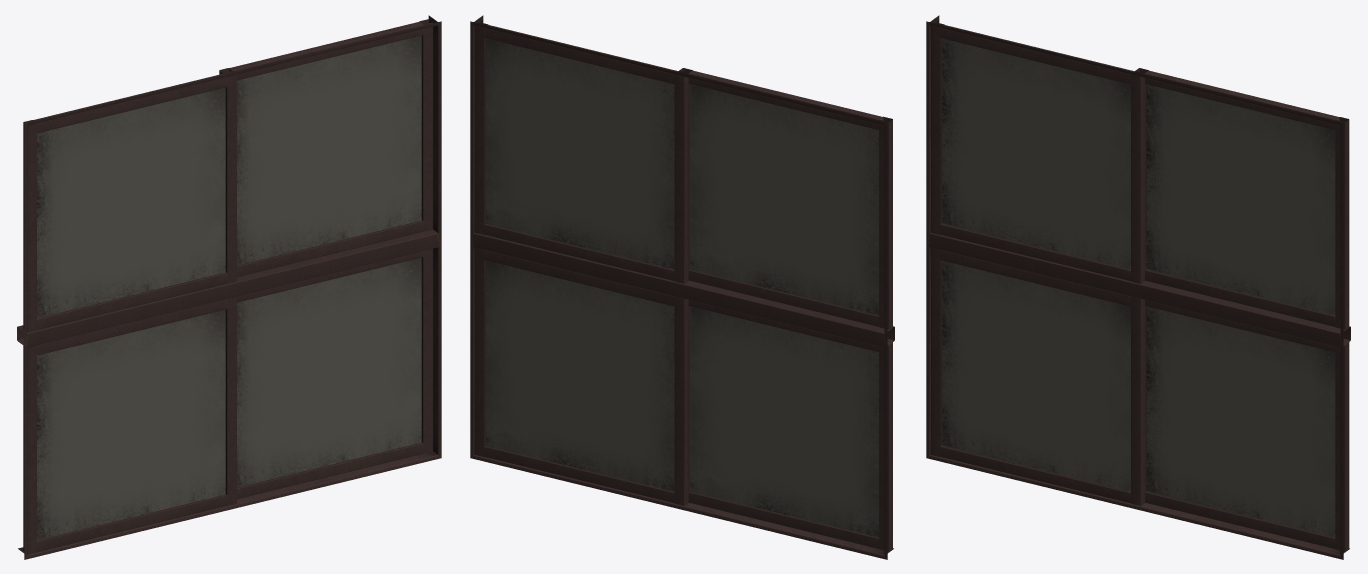
Rendered from Window_150_Large.FBX.
3 views of the same model, side by side, from view 1: azimuth 30°, elevation 25°; view 2: azimuth 150°, elevation 25°; view 3: azimuth 330°, elevation 25° (orthographic).
Parts seen in each view (by area): view 1: Window_150_Large; view 2: Window_150_Large; view 3: Window_150_Large.
Boxes of the visible parts, <box> form: Window_150_Large: <box>17,15,441,559</box>; Window_150_Large: <box>470,15,894,559</box>; Window_150_Large: <box>926,15,1350,559</box>.
Bounding box in the file's own units: 120 × 120 × 5.
